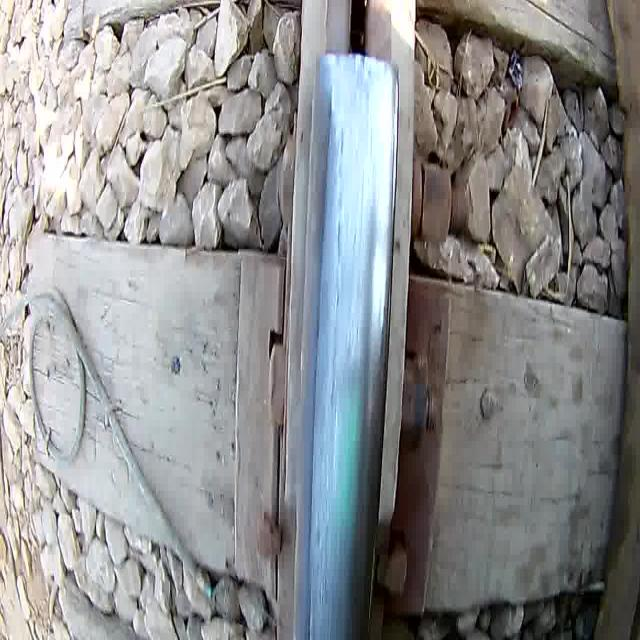Joint: (300, 0, 418, 94)
